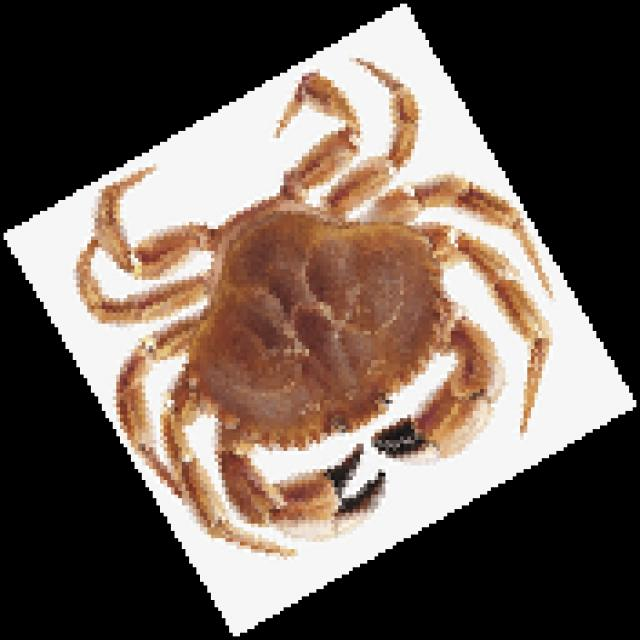Native Jonah crab: (76, 58, 549, 553)
